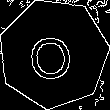O_N: (29, 26, 78, 81)
